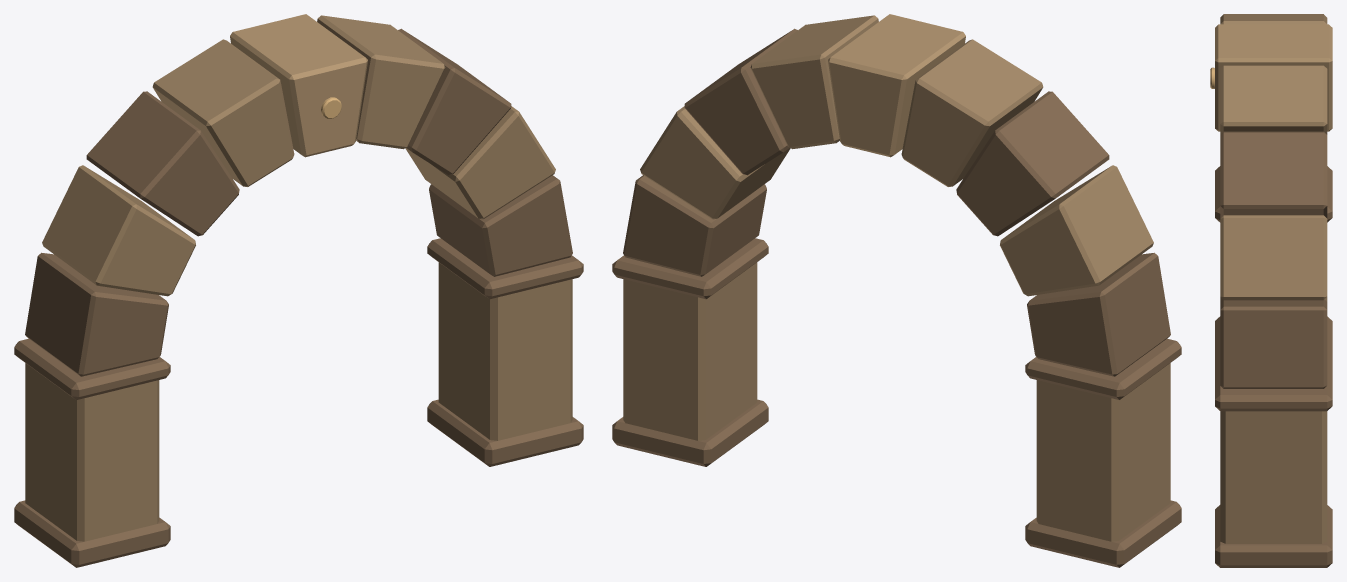
Rendered from arch.glb.
The picture shows the model from 3 angles, left to right: view 1: azimuth 30°, elevation 25°; view 2: azimuth 150°, elevation 25°; view 3: azimuth 270°, elevation 25°; orthographic projection. The views are drawn at different scales.
Visible parts, largest first — view 1: arch; view 2: arch; view 3: arch.
Part boxes in pixels (box(x1,y1,x2,y2)): arch: box(14, 14, 583, 567); arch: box(612, 14, 1181, 567); arch: box(1210, 14, 1332, 567).
Bounding box in the file's own units: 3.1 × 2.55 × 0.685.
